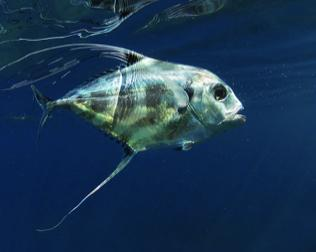Carangidae -Jacks-: (0, 42, 245, 233)
